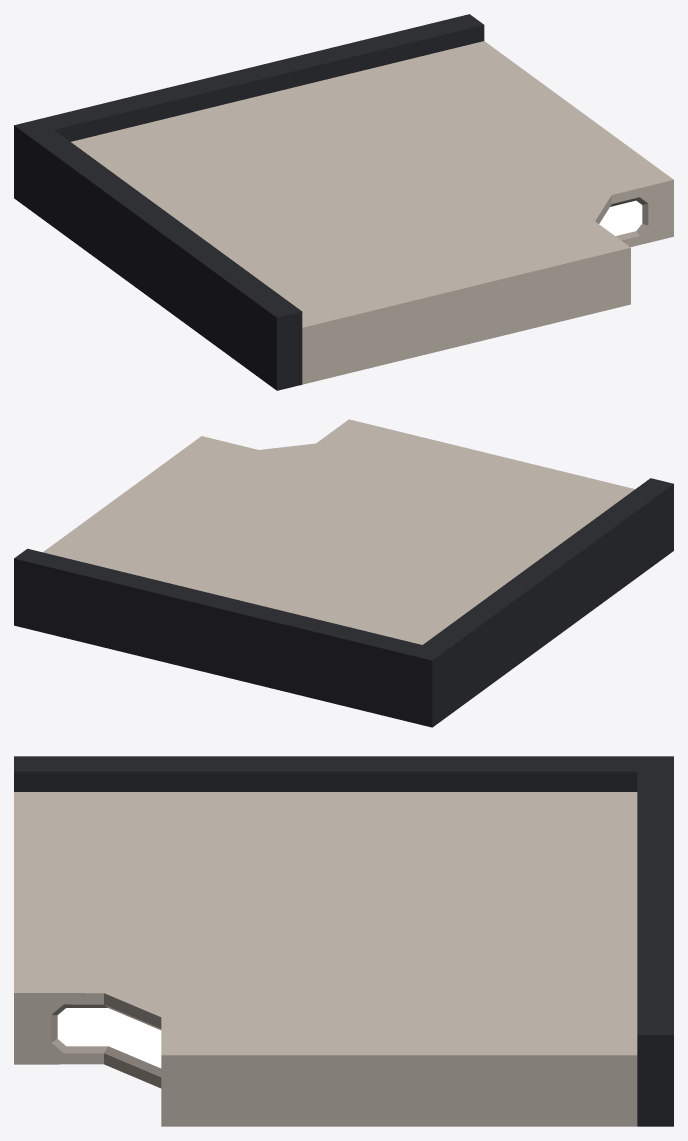
File: SM_Handing_Table_Top_Kinchen_B.glb
3 renders of one model, top to bottom at view 1: azimuth 30°, elevation 25°; view 2: azimuth 150°, elevation 25°; view 3: azimuth 270°, elevation 25°, orthographic. The views are drawn at different scales.
Visible parts, largest first — view 1: SM_Handing_Table_Top_Kinchen_B; view 2: SM_Handing_Table_Top_Kinchen_B; view 3: SM_Handing_Table_Top_Kinchen_B.
Part boxes in pixels (x1,y1,x2,y2): SM_Handing_Table_Top_Kinchen_B: (14,14,673,390); SM_Handing_Table_Top_Kinchen_B: (14,419,673,727); SM_Handing_Table_Top_Kinchen_B: (14,756,673,1126).
Size of the model in its own units: 0.8003 by 0.1226 by 0.8003.
2 materials, 1 textured.
